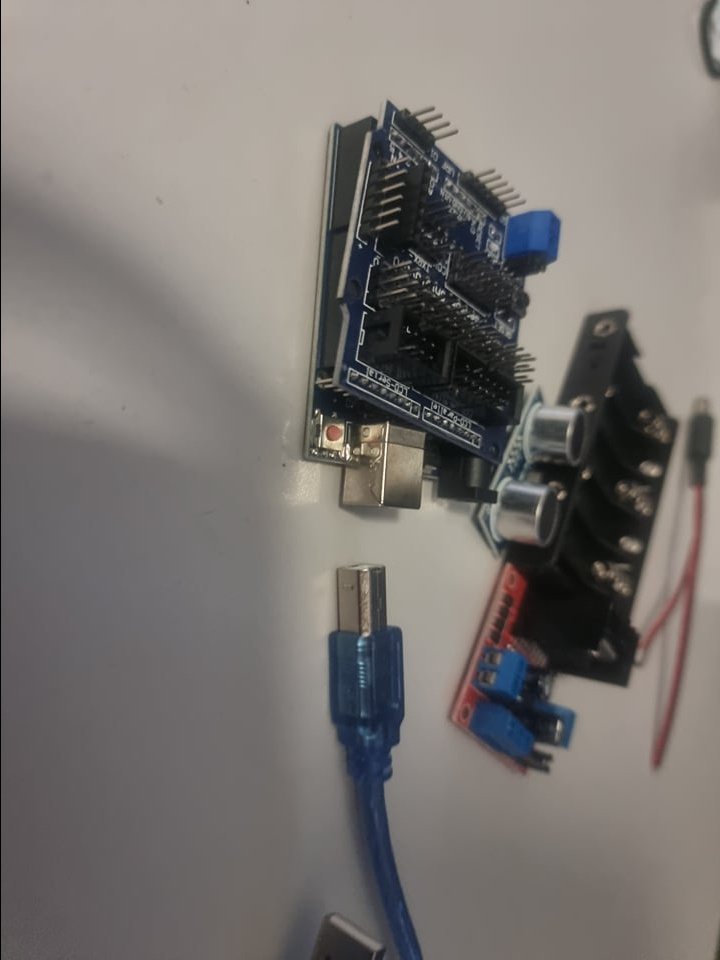5V EXPANSION: (346, 101, 576, 403)
BATTERY BOX: (521, 312, 682, 577)
MOTOR: (447, 578, 646, 776)
SENSOR: (478, 386, 588, 548)
UNO R3: (293, 413, 498, 527)
